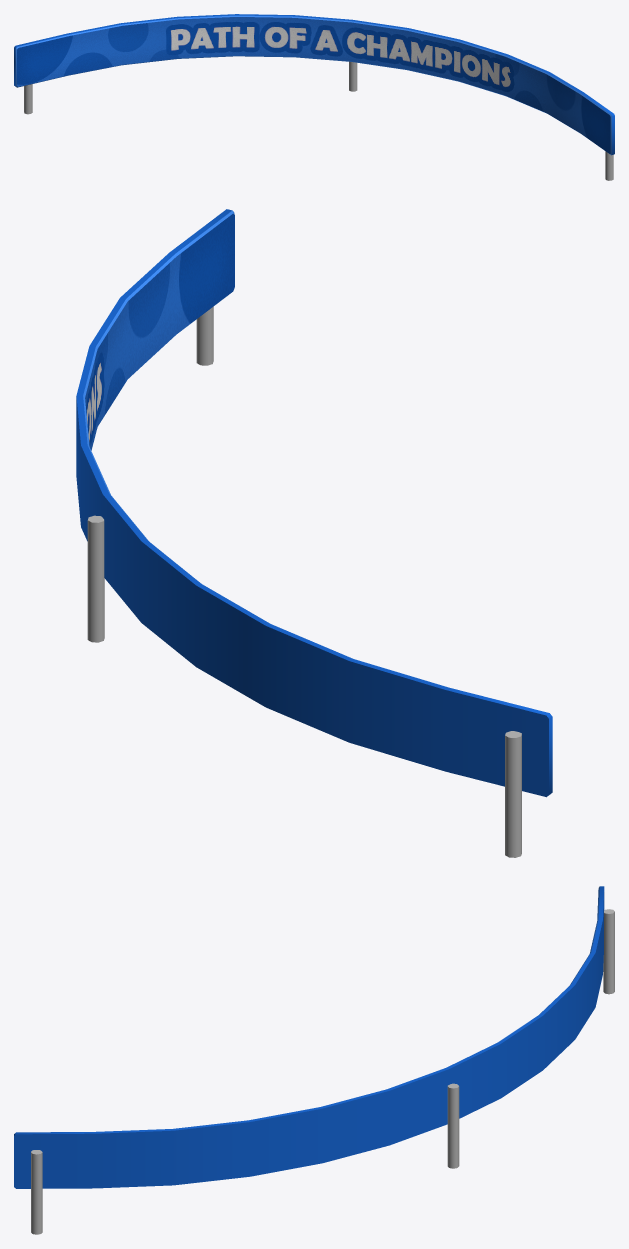
Rendered from billboards_OnColumn_corner_1_C.fbx.
3 renders of one model, top to bottom at view 1: azimuth 30°, elevation 25°; view 2: azimuth 150°, elevation 25°; view 3: azimuth 270°, elevation 25°, orthographic. The views are drawn at different scales.
Visible parts, largest first — view 1: billboards_OnColumn_corner_1_C; view 2: billboards_OnColumn_corner_1_C; view 3: billboards_OnColumn_corner_1_C.
Boxes of the visible parts, x1=… form: billboards_OnColumn_corner_1_C: x1=14, y1=14, x2=614, y2=180; billboards_OnColumn_corner_1_C: x1=76, y1=209, x2=552, y2=857; billboards_OnColumn_corner_1_C: x1=14, y1=886, x2=614, y2=1234.
Size of the model in its own units: 619 by 109 by 620.
